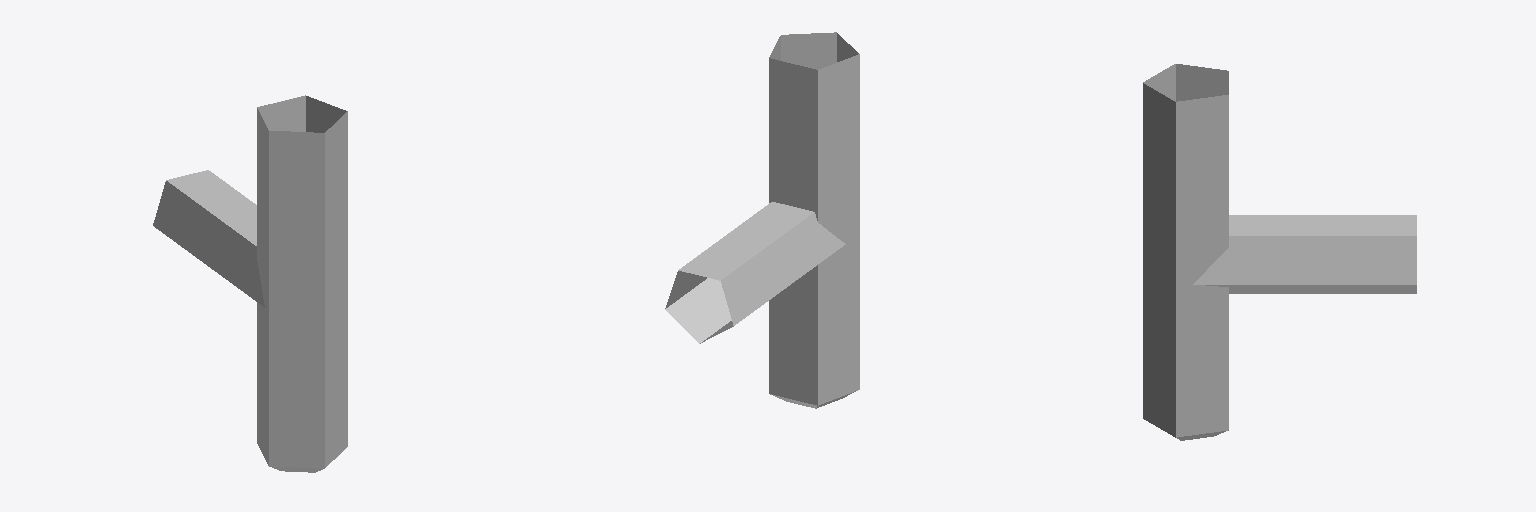
Rendered from original-24.obj.
3 renders of one model, left to right at view 1: azimuth 30°, elevation 25°; view 2: azimuth 150°, elevation 25°; view 3: azimuth 270°, elevation 25°, orthographic.
Visible parts, largest first — view 1: bpe12_1/bpe12/mesh12/mesh12-geometry#mesh12-geometry; view 2: bpe12_1/bpe12/mesh12/mesh12-geometry#mesh12-geometry; view 3: bpe12_1/bpe12/mesh12/mesh12-geometry#mesh12-geometry.
Boxes of the visible parts, <box> form: bpe12_1/bpe12/mesh12/mesh12-geometry#mesh12-geometry: <box>153,95,347,472</box>; bpe12_1/bpe12/mesh12/mesh12-geometry#mesh12-geometry: <box>665,32,859,408</box>; bpe12_1/bpe12/mesh12/mesh12-geometry#mesh12-geometry: <box>1143,64,1416,440</box>.
Size of the model in its own units: 0.0097 by 0.041 by 0.0294.